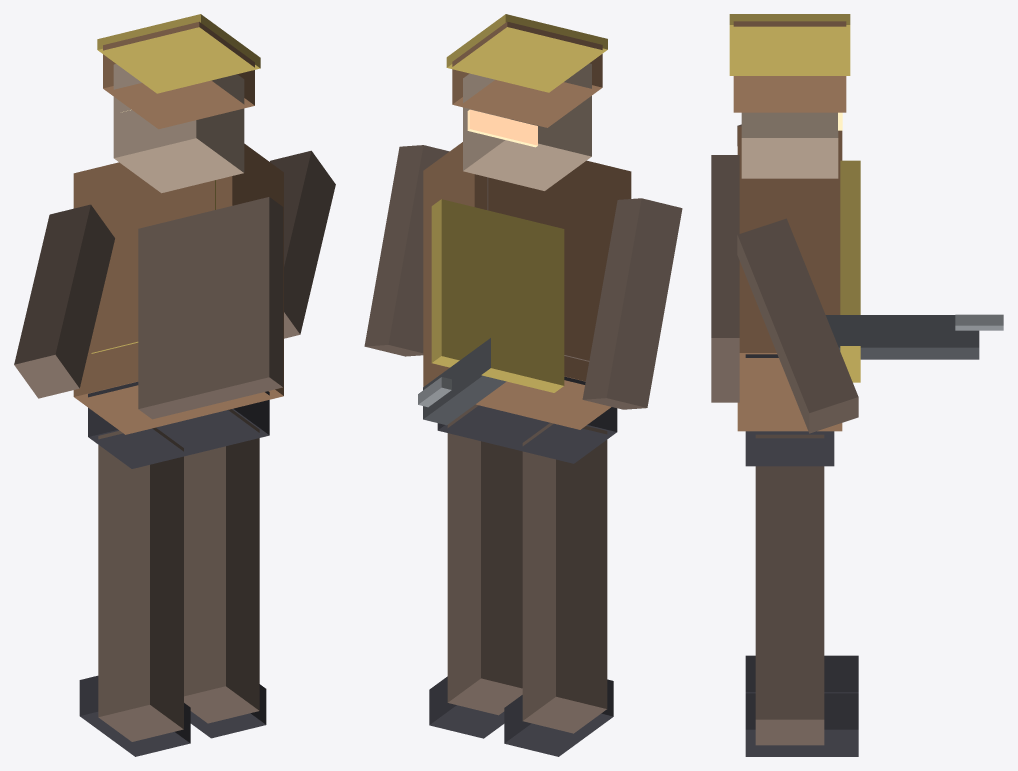
Rendered from enemy_b.glb.
The picture shows the model from 3 angles, left to right: view 1: azimuth 30°, elevation 25°; view 2: azimuth 150°, elevation 25°; view 3: azimuth 270°, elevation 25°; orthographic projection. The views are drawn at different scales.
Visible parts, largest first — view 1: legs, torso, head, arms; view 2: legs, torso, arms, head, visor; view 3: legs, torso, arms, head.
Boxes of the visible parts, box(x1,y1,x2,y2) form: legs: box(79, 381, 269, 756); torso: box(73, 143, 283, 434); head: box(97, 14, 260, 193); arms: box(14, 150, 335, 398); legs: box(429, 376, 617, 756); torso: box(423, 142, 631, 429); arms: box(364, 145, 682, 425); head: box(446, 14, 607, 190); visor: box(467, 109, 537, 147); legs: box(745, 354, 858, 756); torso: box(711, 126, 860, 431); arms: box(737, 124, 1003, 433); head: box(729, 14, 850, 178).
Bounding box in the file's own units: 0.76 × 1.88 × 0.725.
